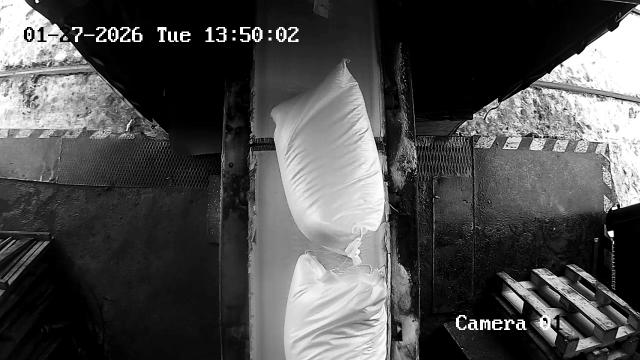bag: (272, 57, 384, 264), (285, 254, 387, 360)
